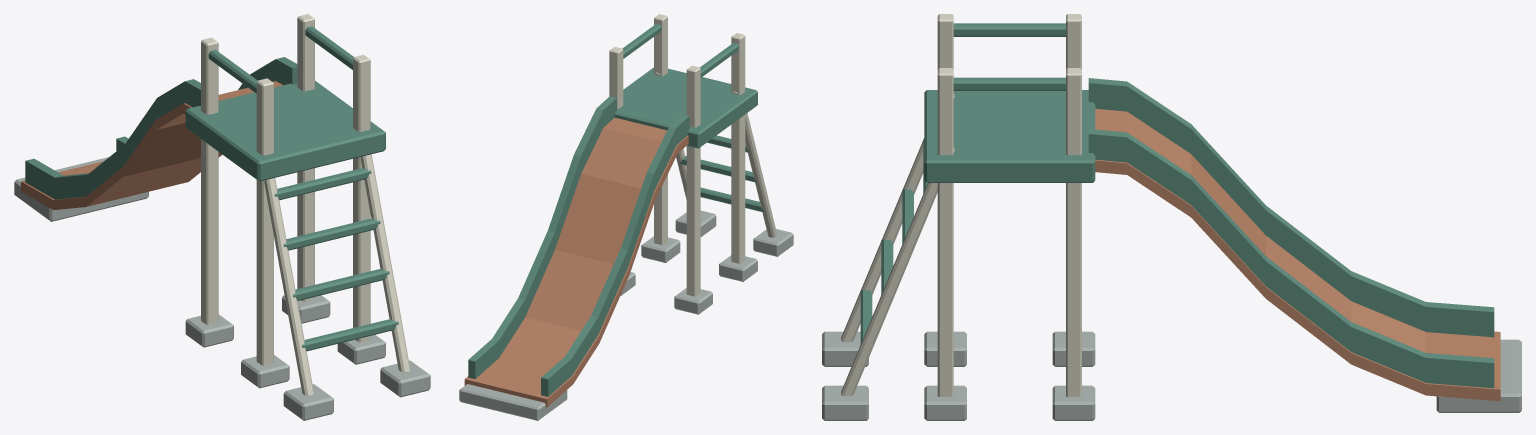
3 views of the same model, side by side, from view 1: azimuth 30°, elevation 25°; view 2: azimuth 150°, elevation 25°; view 3: azimuth 270°, elevation 25° (orthographic). The views are drawn at different scales.
Parts seen in each view (by area): view 1: playground-small-slide-01; view 2: playground-small-slide-01; view 3: playground-small-slide-01.
Part boxes in pixels (x1,y1,x2,y2): playground-small-slide-01: [14, 14, 430, 420]; playground-small-slide-01: [459, 14, 793, 420]; playground-small-slide-01: [822, 14, 1521, 420].
Size of the model in its own units: 0.8 by 1.77 by 3.28.
